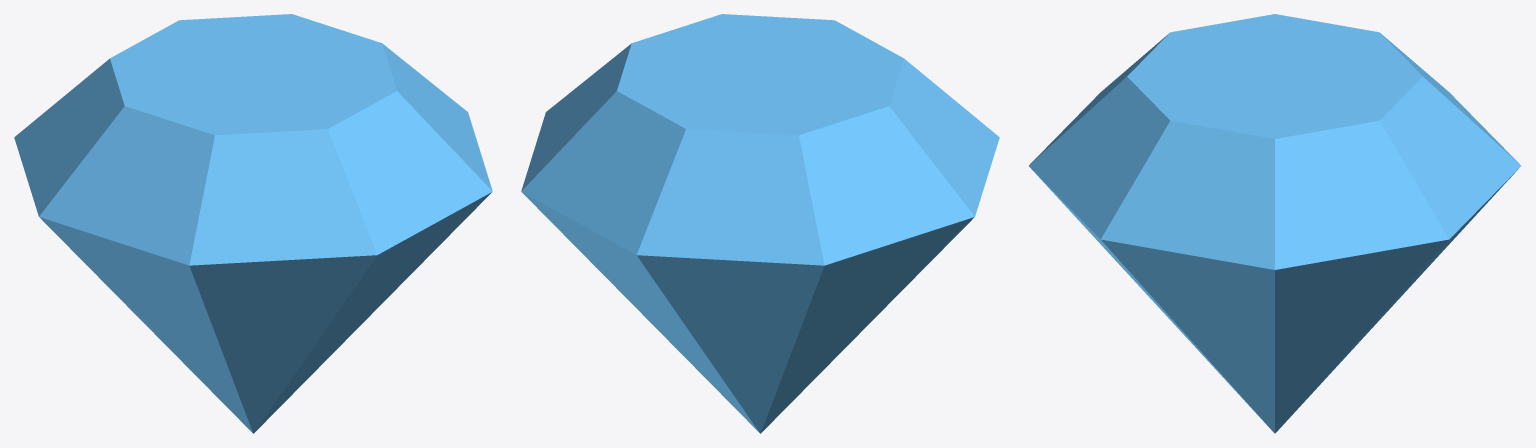
File: diamond_model.fbx
The picture shows the model from 3 angles, left to right: view 1: azimuth 30°, elevation 25°; view 2: azimuth 150°, elevation 25°; view 3: azimuth 270°, elevation 25°; orthographic projection.
Visible parts, largest first — view 1: Diamond; view 2: Diamond; view 3: Diamond.
Part boxes in pixels (x1,y1,x2,y2): Diamond: (14,14,492,433); Diamond: (521,14,999,433); Diamond: (1029,14,1520,433).
Size of the model in its own units: 160 by 128 by 160.
